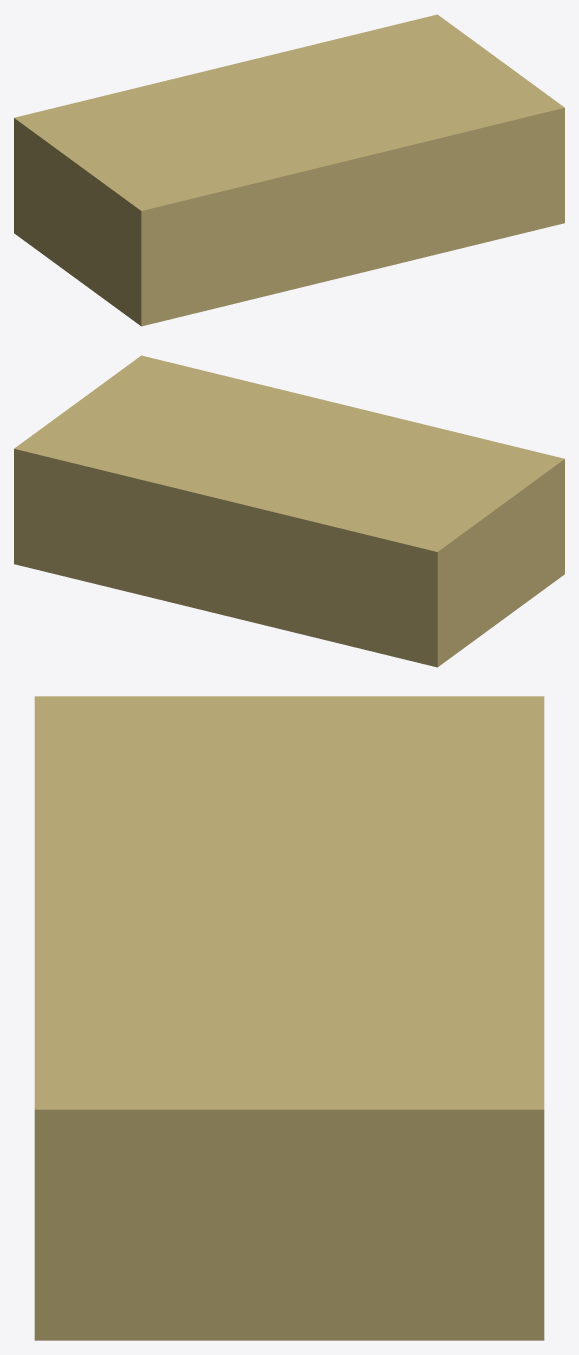
The picture shows the model from 3 angles, top to bottom: view 1: azimuth 30°, elevation 25°; view 2: azimuth 150°, elevation 25°; view 3: azimuth 270°, elevation 25°; orthographic projection. The views are drawn at different scales.
Parts seen in each view (by area): view 1: RUN-000-S02-NOG-00; view 2: RUN-000-S02-NOG-00; view 3: RUN-000-S02-NOG-00.
Boxes of the visible parts, bbox=[...] form: RUN-000-S02-NOG-00: bbox=[14, 14, 564, 326]; RUN-000-S02-NOG-00: bbox=[14, 355, 564, 667]; RUN-000-S02-NOG-00: bbox=[34, 696, 544, 1340].
Size of the model in its own units: 0.1728 by 0.045 by 0.09.
